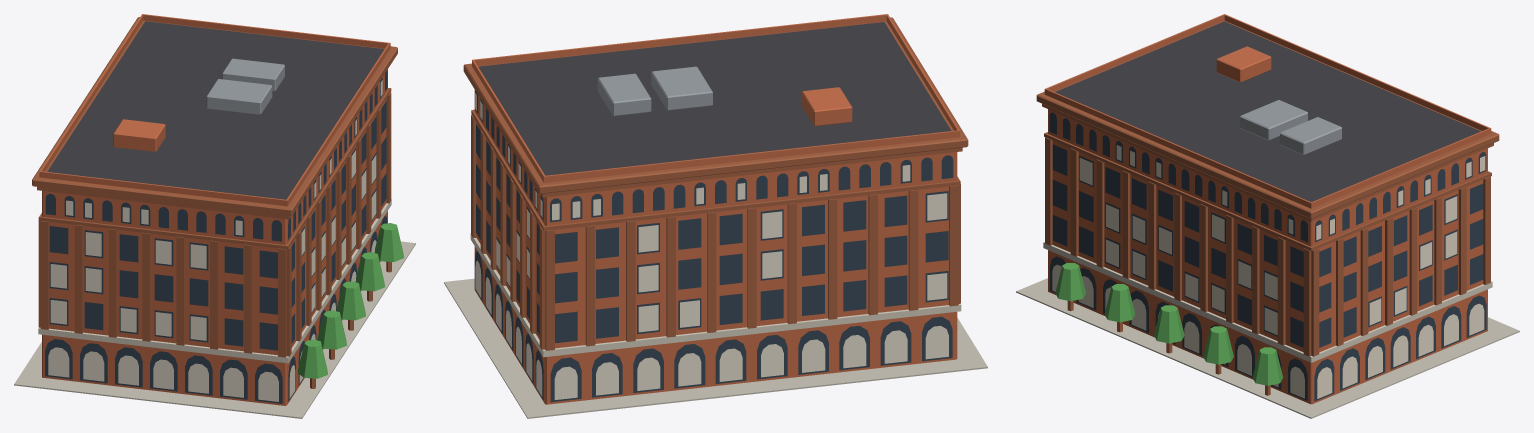
Rendered from folger-coffee-building.glb.
3 views of the same model, side by side, from view 1: azimuth 30°, elevation 25°; view 2: azimuth 150°, elevation 25°; view 3: azimuth 270°, elevation 25° (orthographic). The views are drawn at different scales.
Parts seen in each view (by area): view 1: folger-coffee-building_body, folger-coffee-building_night_glow; view 2: folger-coffee-building_body, folger-coffee-building_night_glow; view 3: folger-coffee-building_body, folger-coffee-building_night_glow.
Part boxes in pixels (x1=…): folger-coffee-building_body: x1=14, y1=14, x2=415, y2=418; folger-coffee-building_night_glow: x1=48, y1=80, x2=382, y2=401; folger-coffee-building_body: x1=444, y1=14, x2=987, y2=418; folger-coffee-building_night_glow: x1=475, y1=92, x2=948, y2=399; folger-coffee-building_body: x1=1016, y1=14, x2=1519, y2=418; folger-coffee-building_night_glow: x1=1052, y1=145, x2=1485, y2=398.
Size of the model in its own units: 57.56 by 26.74 by 57.41.
